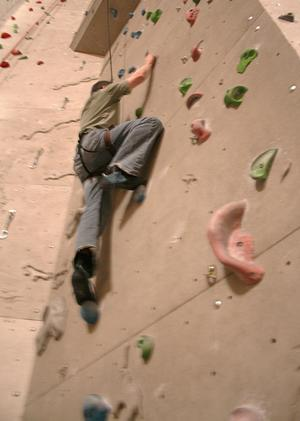person: (72, 53, 165, 307)
